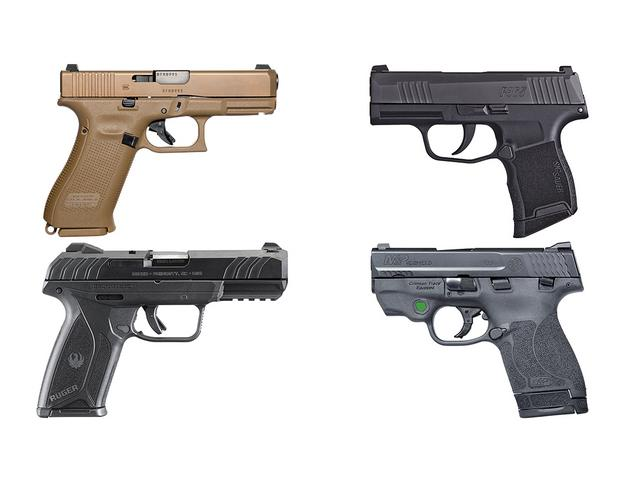pistol: (32, 245, 290, 419), (42, 64, 285, 238), (366, 61, 590, 241), (369, 240, 593, 416)
